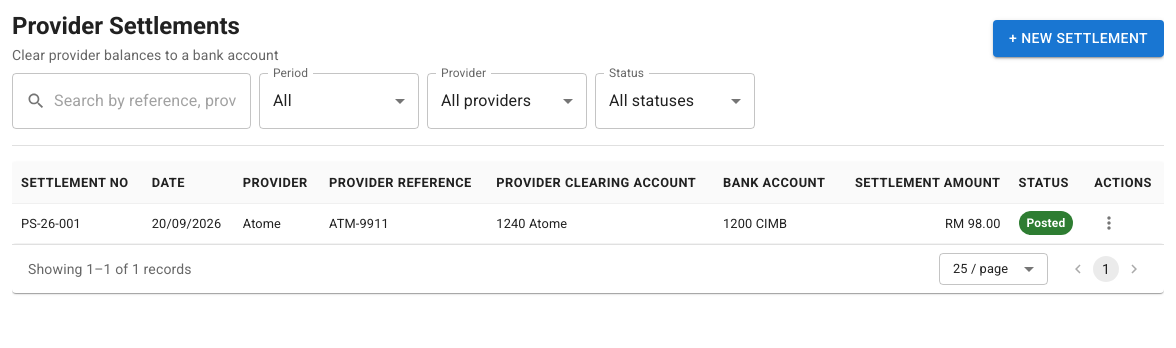
it: ProviderSettlementsPage › offers only reverse on a posted row
Click the button named "actions": {"x": 1109, "y": 223} [1094,208,1124,238]
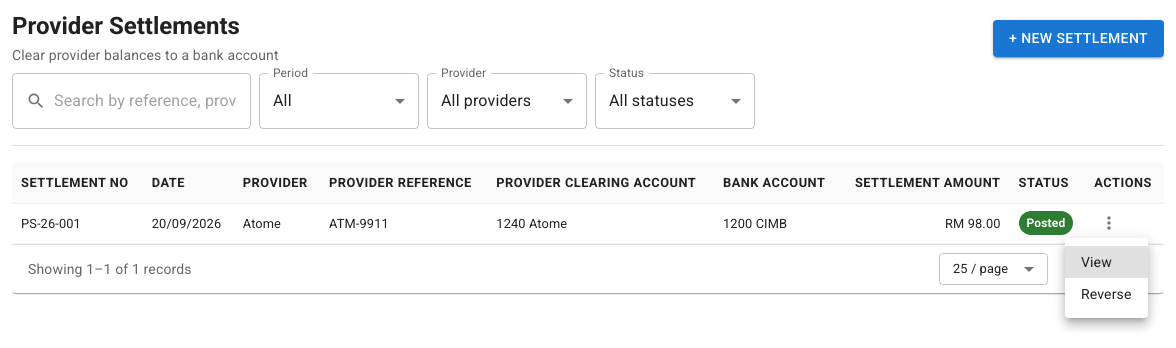
Expected: the menu item "Reverse" is shown, [1081,286,1132,302]
